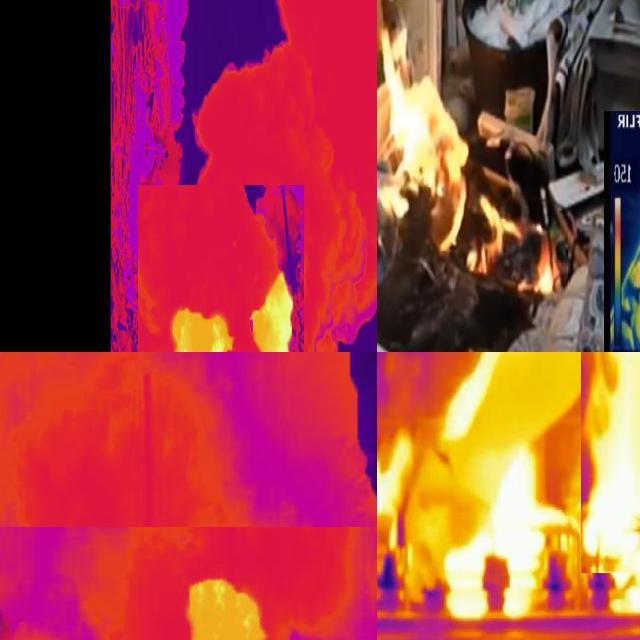fire: (449, 458, 544, 581), (171, 274, 303, 353), (581, 444, 640, 573), (438, 353, 516, 449), (180, 578, 270, 640), (378, 467, 405, 518)
